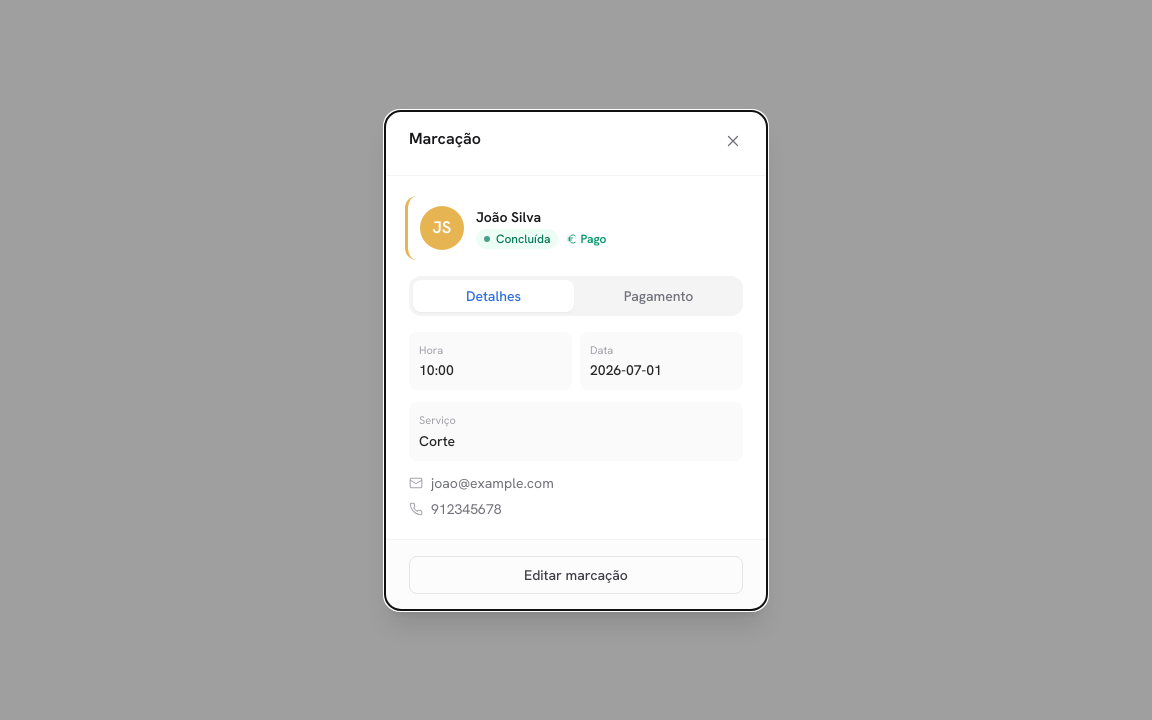
Test: ApptModal — pagamento de uma marcação concluída › na aba Pagamento, 'Editar pagamento' revela os campos de valores
This screenshot has width=1152, height=720.
Click the tab "Pagamento" at (658,296), box [578, 280, 739, 312]
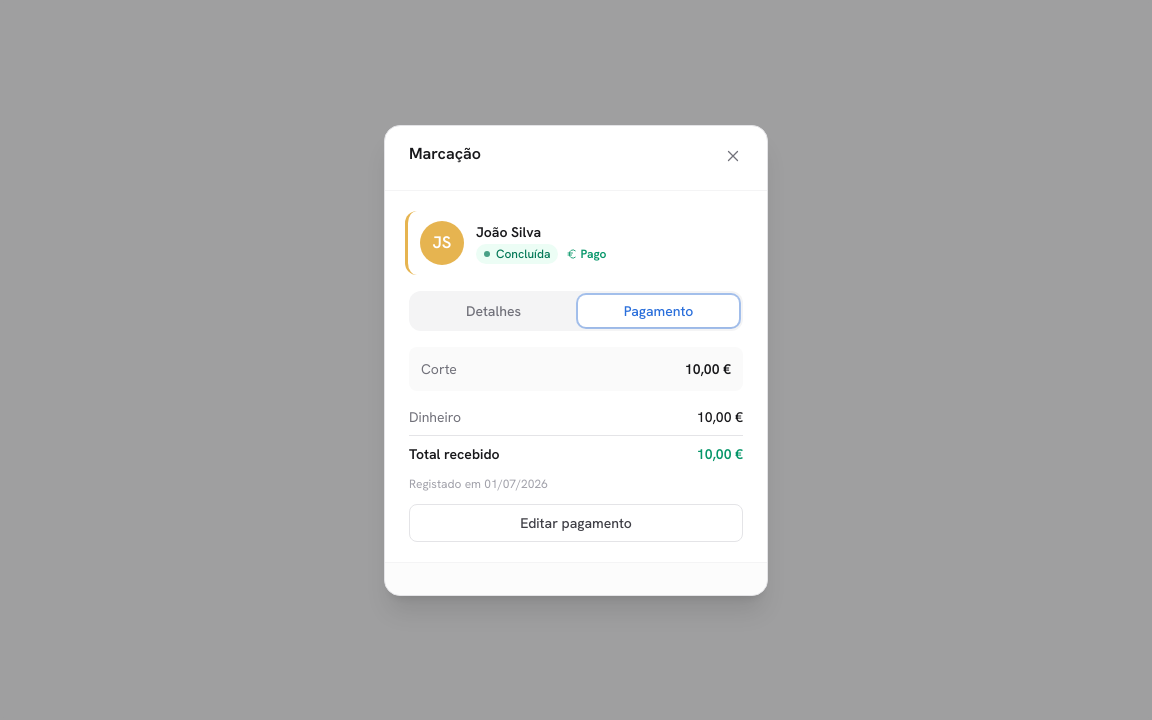
Result: the text "Total recebido" is shown at [409, 444, 500, 464]
Click the button "Editar pagamento" at (576,522), box [409, 504, 743, 542]
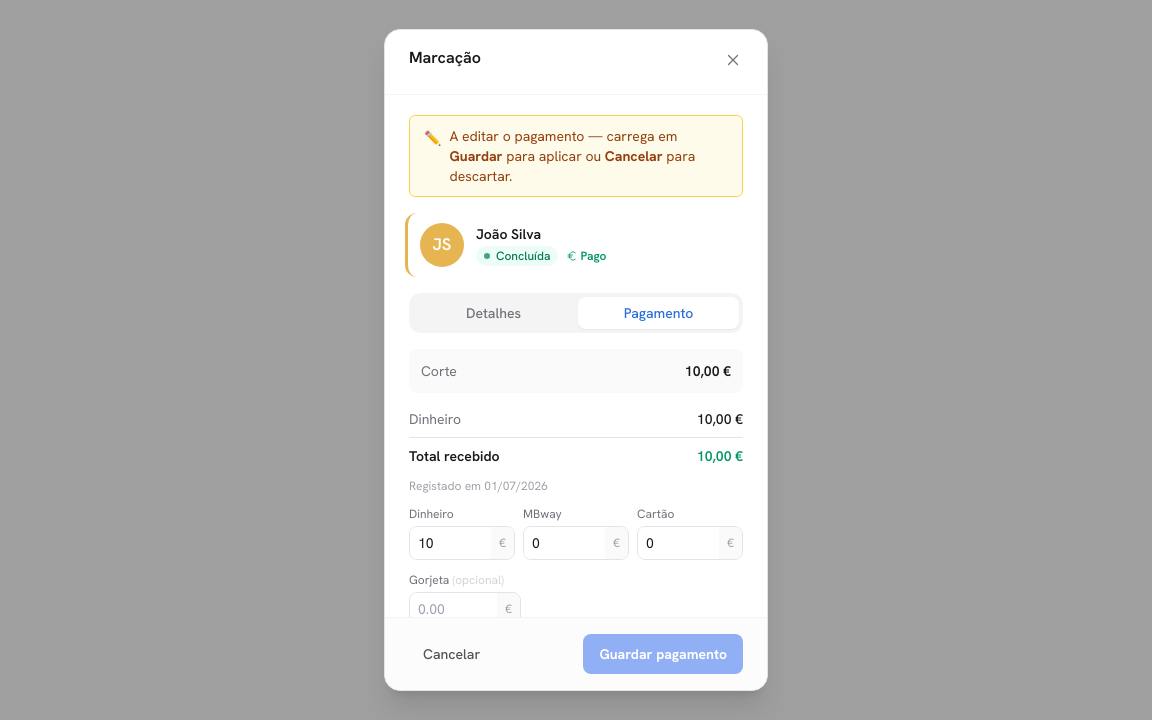
Result: the 1st text "Dinheiro" is shown at [409, 409, 461, 429]
Result: the text "A editar o pagamento" is shown at [450, 127, 584, 145]
